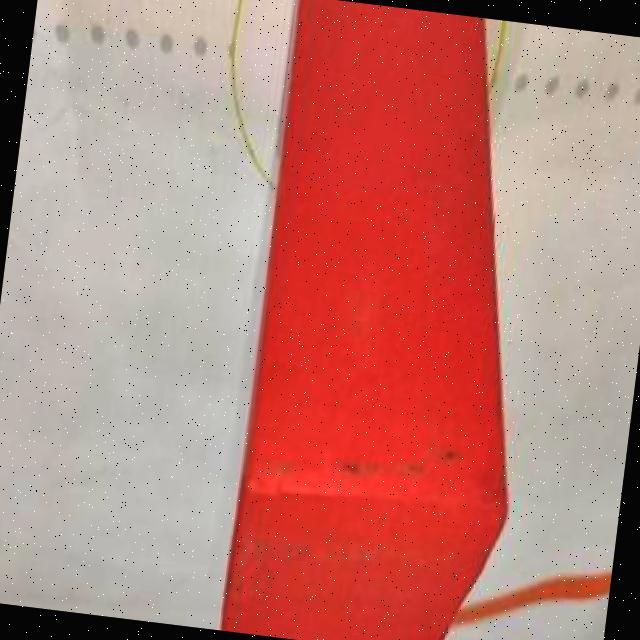redbox: (214, 0, 568, 640)
